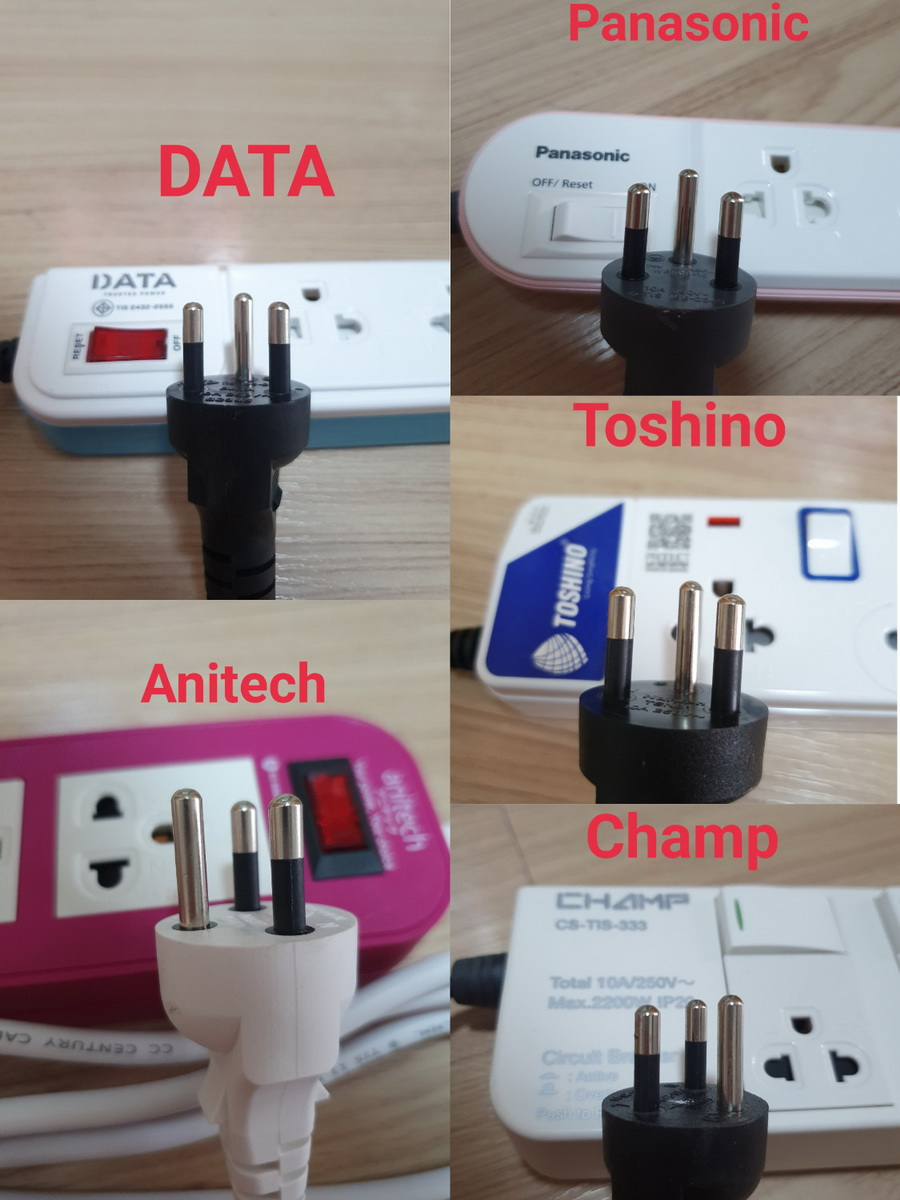Three_eye_plug: (1, 680, 452, 1056), (483, 871, 900, 1190), (465, 482, 900, 727), (446, 105, 900, 329), (12, 262, 456, 459)
